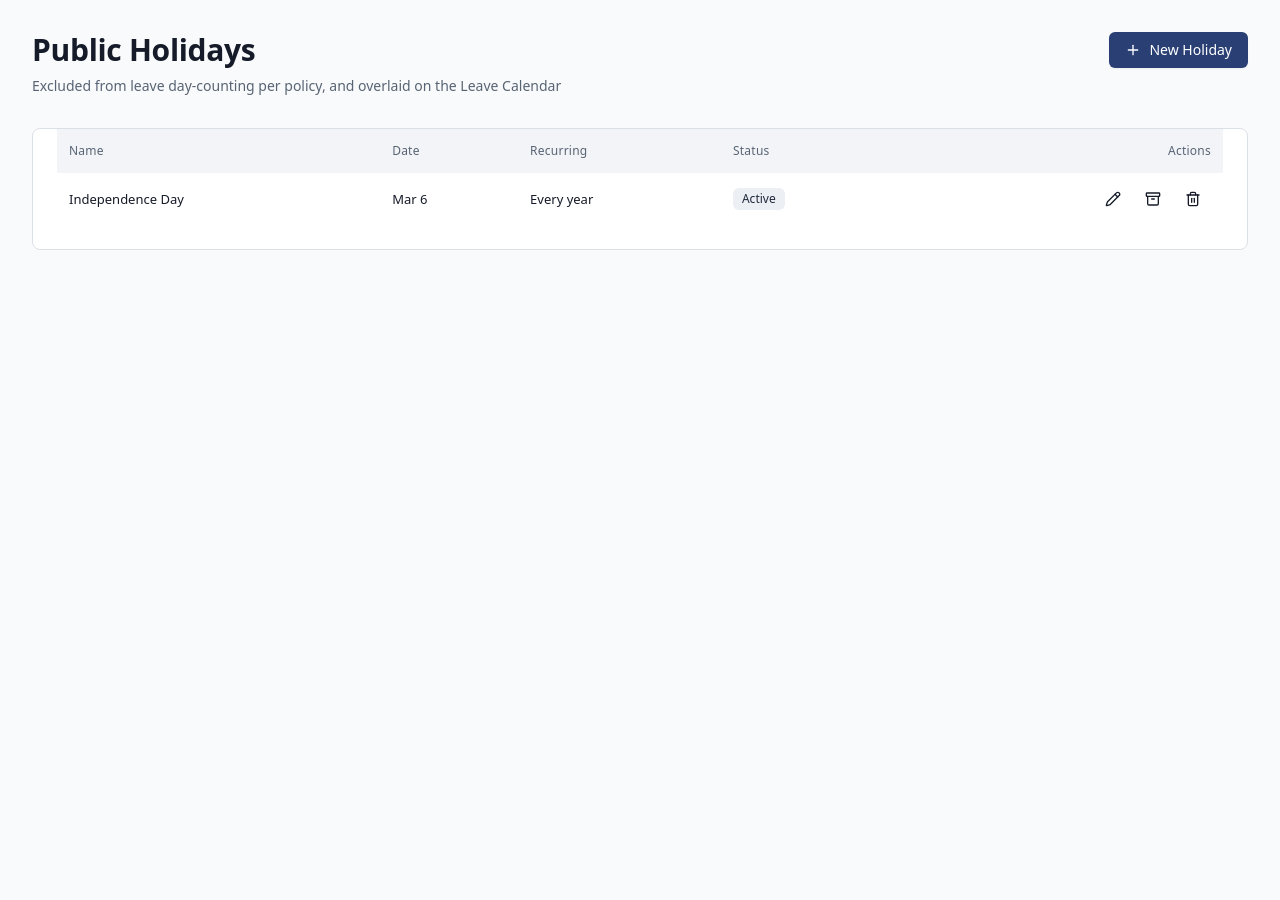
Test: Public Holidays page — confirmations › Deactivate opens a confirmation and deactivates nothing until confirmed
This screenshot has width=1280, height=900.
Click the button with test id "button-deactivate-holiday-1" at [1153, 199], box [1135,181,1171,217]
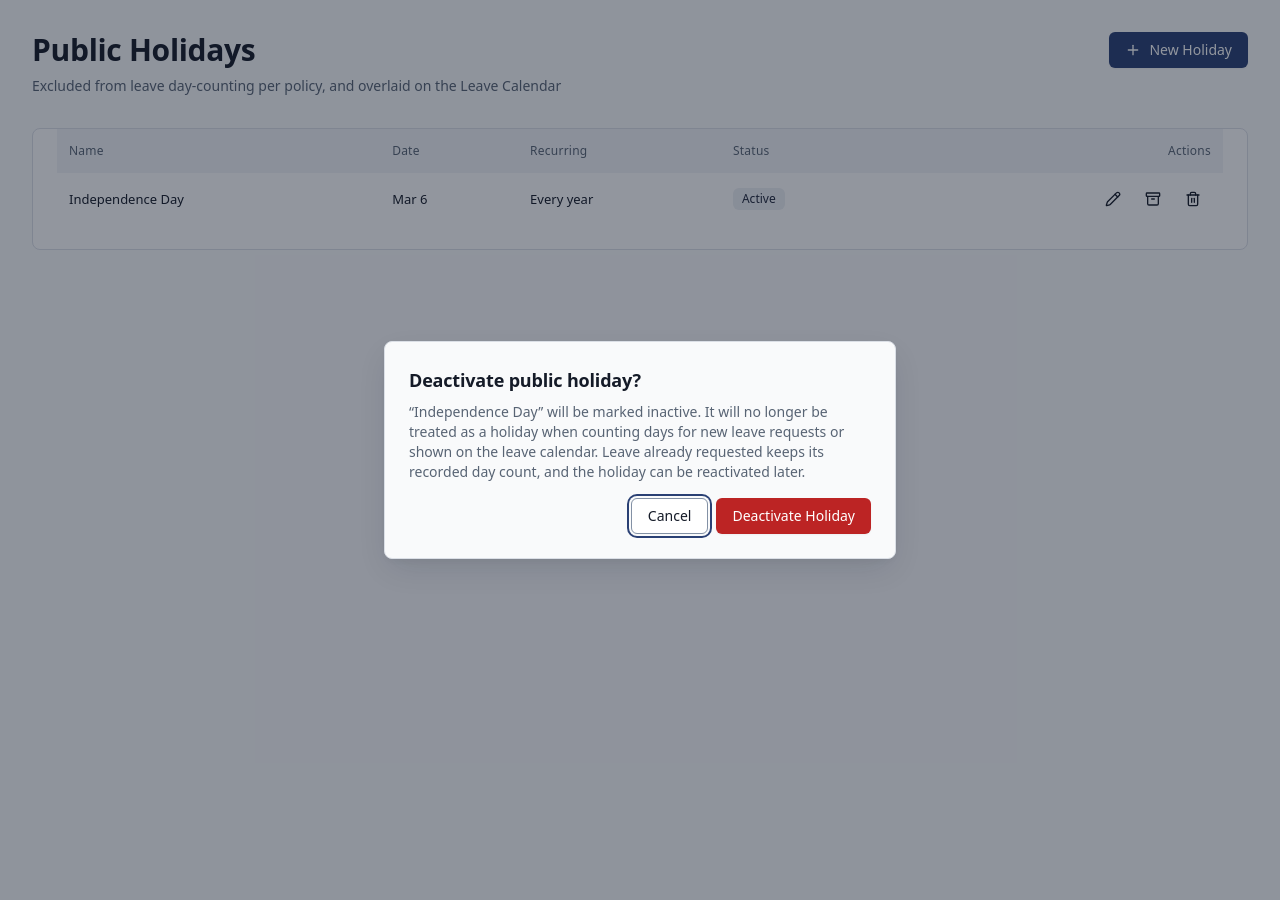
Now the dialog with test id "dialog-holiday-status" shows "Deactivate public holiday?", box [409,368,641,392]
Now the dialog with test id "dialog-holiday-status" shows "“Independence Day”", box [384,341,896,559]
Click the button with test id "dialog-holiday-status-cancel" at [670, 516], box [631,498,708,534]
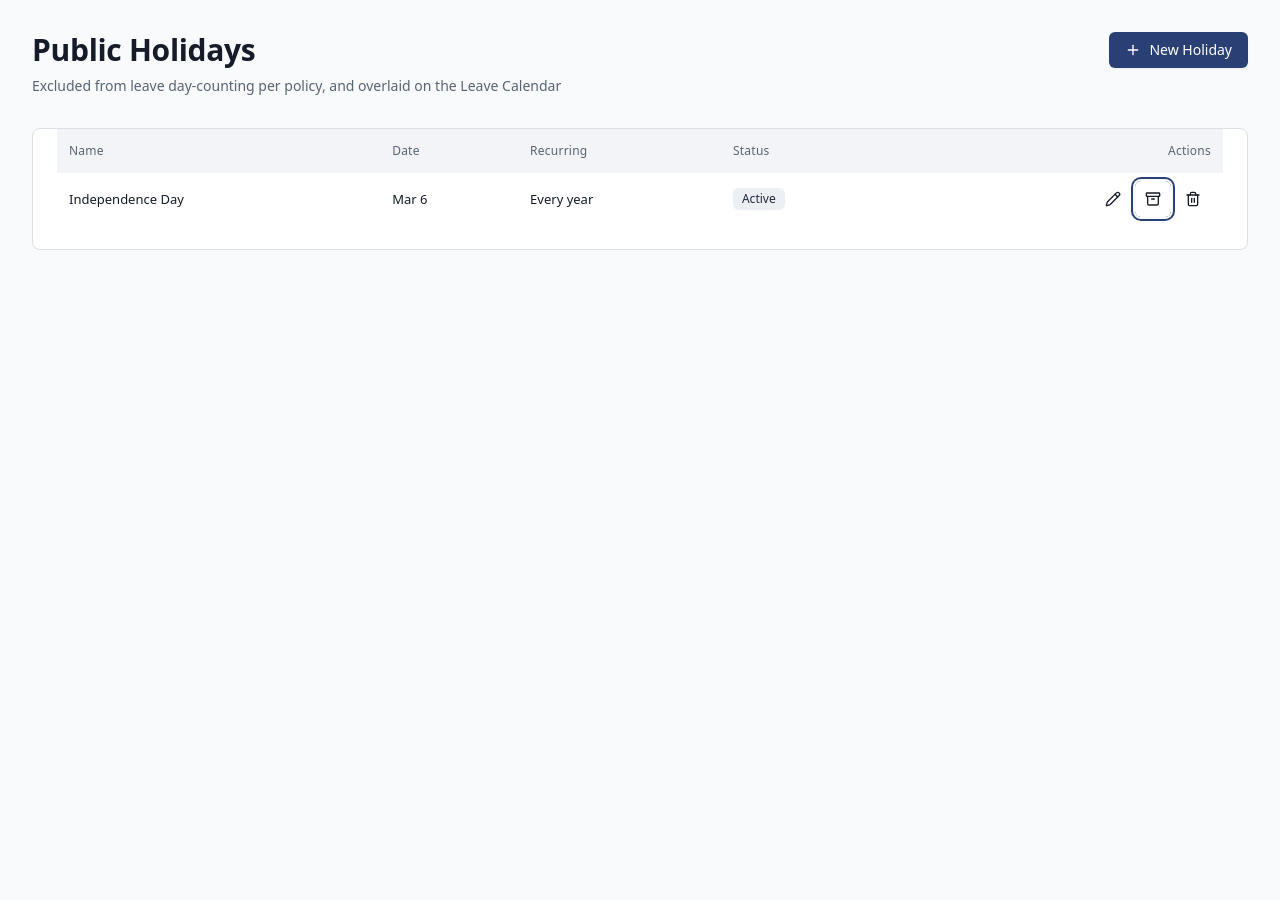
Now the dialog with test id "dialog-holiday-status" is gone
Click the button with test id "button-deactivate-holiday-1" at [1153, 199], box [1135,181,1171,217]
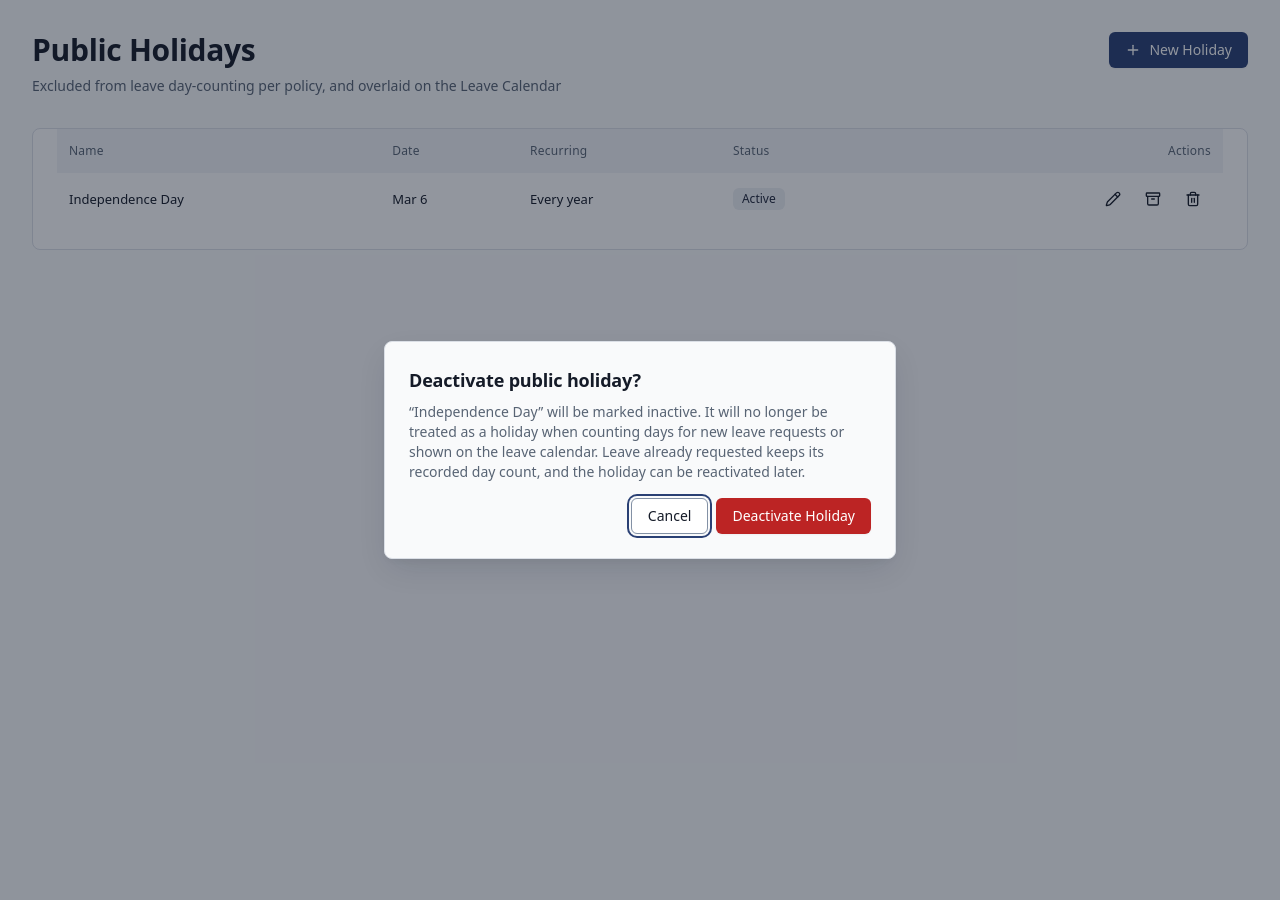
Click the button with test id "dialog-holiday-status-confirm" at [794, 516], box [716,498,871,534]
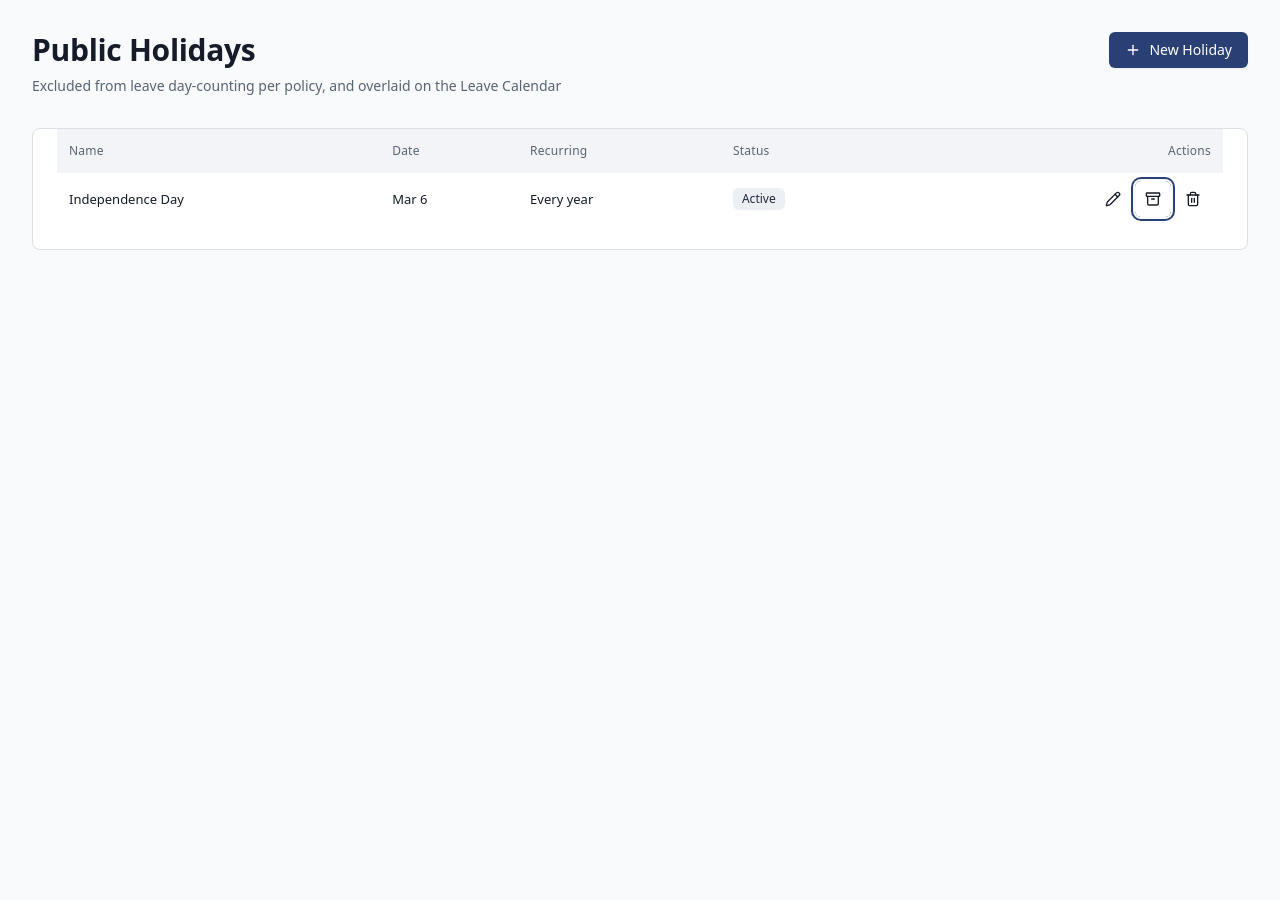
Now the dialog with test id "dialog-holiday-status" is gone
